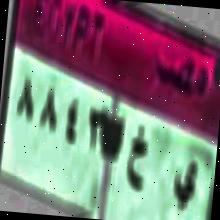3: (82, 102, 108, 160)
4: (60, 92, 85, 162)
8: (36, 88, 63, 142), (13, 75, 36, 134)
khaa: (122, 128, 155, 201)
yaa: (168, 154, 200, 211)
